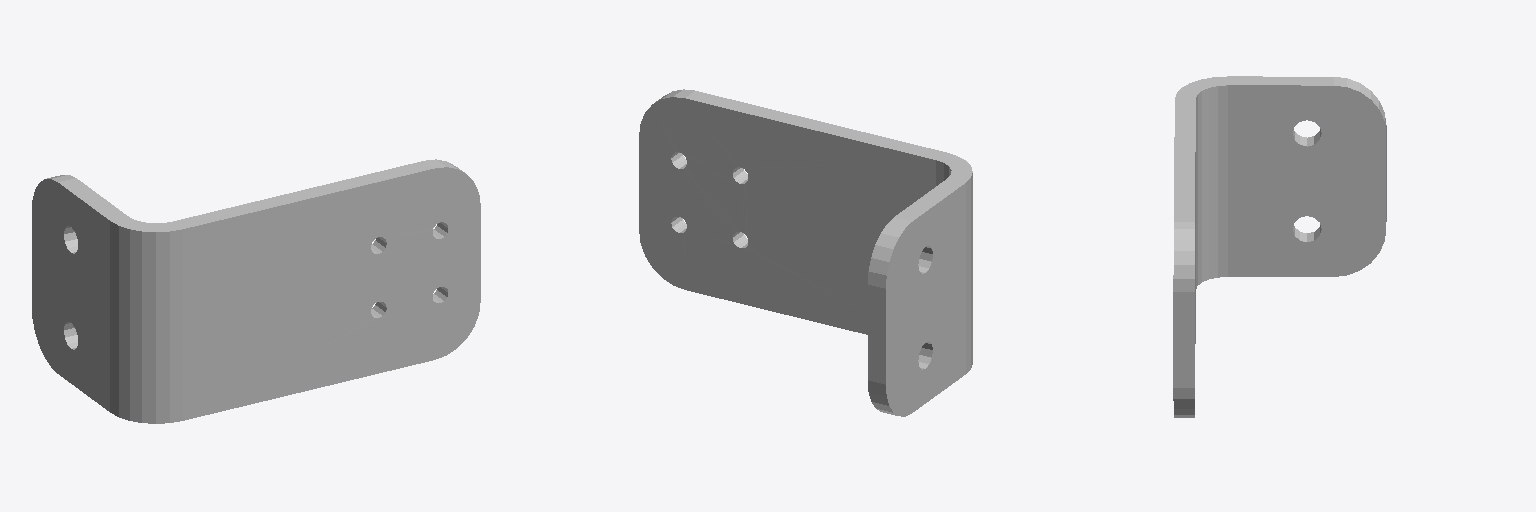
The model's file is rf-thruster-mount_visual_rf-thruster-mount.obj.
3 views of the same model, side by side, from view 1: azimuth 30°, elevation 25°; view 2: azimuth 150°, elevation 25°; view 3: azimuth 270°, elevation 25° (orthographic).
Visible parts, largest first — view 1: rf-thruster-mount_visual_rf-thruster-mount; view 2: rf-thruster-mount_visual_rf-thruster-mount; view 3: rf-thruster-mount_visual_rf-thruster-mount.
Boxes of the visible parts, x1,y1,x2,y2 form: rf-thruster-mount_visual_rf-thruster-mount: [32, 159, 480, 423]; rf-thruster-mount_visual_rf-thruster-mount: [639, 89, 972, 416]; rf-thruster-mount_visual_rf-thruster-mount: [1173, 76, 1386, 417].
Size of the model in its own units: 0.075 by 0.04 by 0.0403.